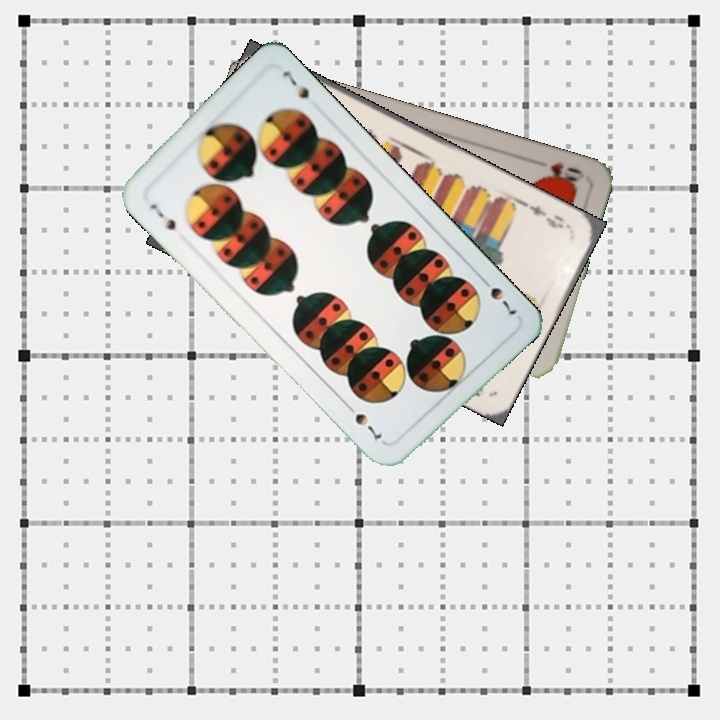E9: (519, 198, 574, 231)
HO: (538, 157, 587, 188)
S7: (476, 272, 521, 318), (146, 199, 179, 233)
